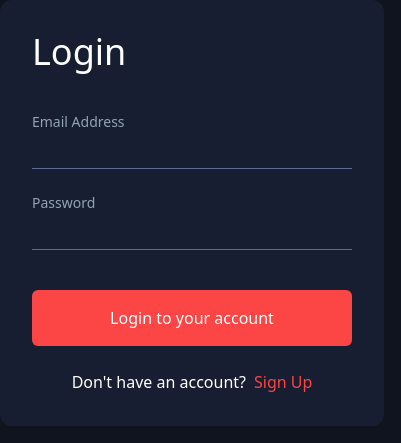
invalid email input results in a error message
In the field labelled "Email Address": {"x": 192, "y": 156} [32, 144, 352, 169], type "invalidEmail"
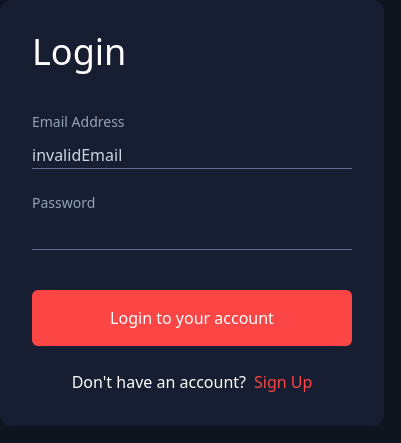
In the password field labelled "Password": {"x": 192, "y": 238} [32, 225, 352, 250], type "test12345"
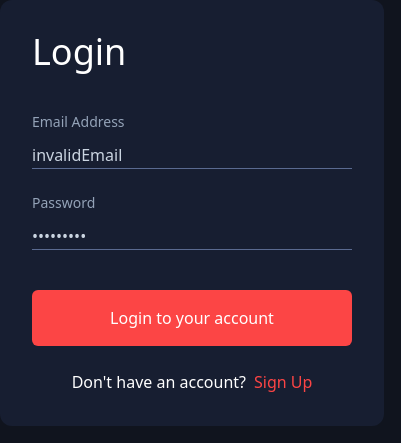
Click the button "Login to your account": {"x": 192, "y": 318} [32, 290, 352, 346]
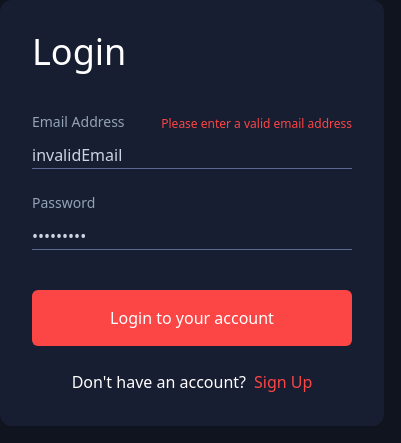
Check: the message reads "Please enter a valid email address", box [161, 115, 352, 132]
